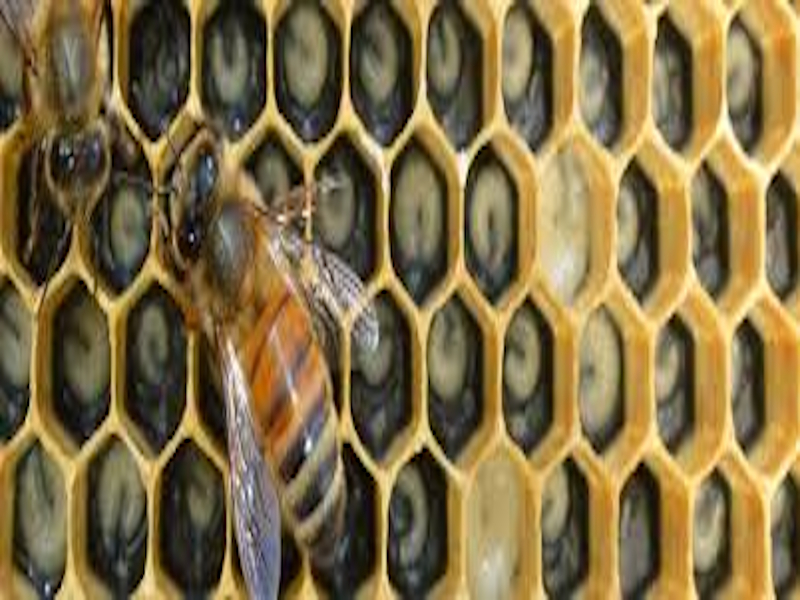abeja: (98, 102, 403, 600)
